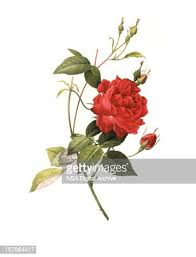lale: (86, 77, 148, 145)
